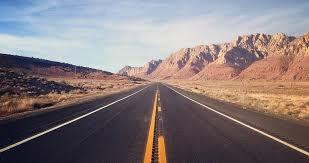road: (0, 83, 156, 162), (157, 83, 308, 162), (0, 87, 142, 147), (175, 88, 308, 151)
